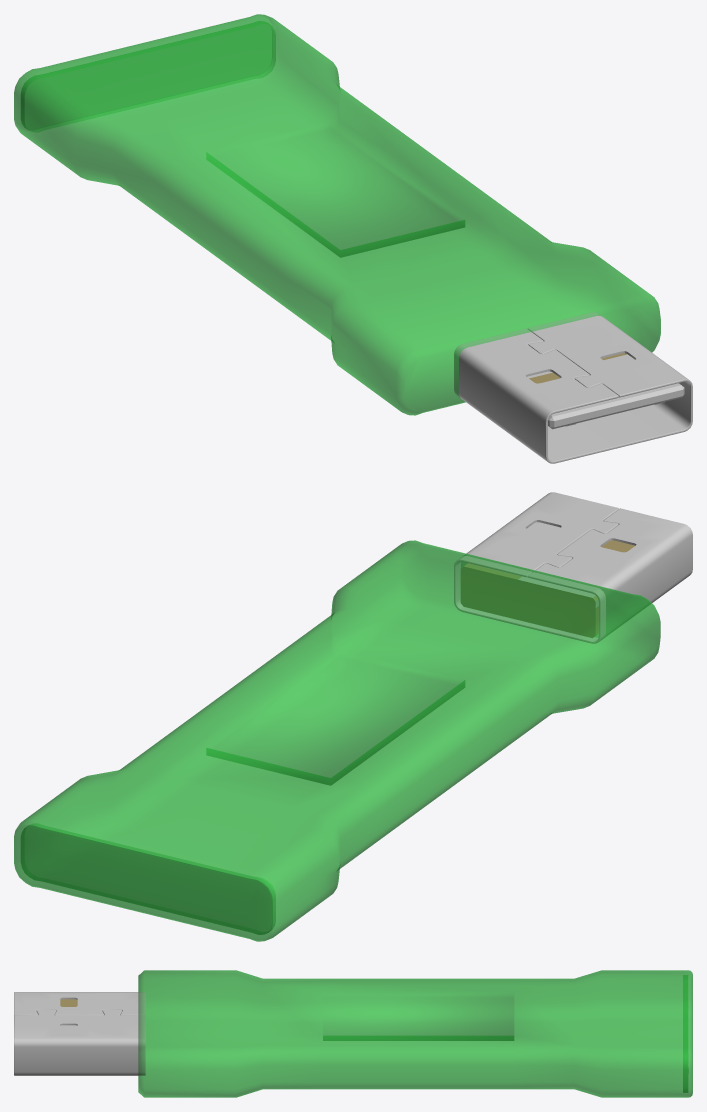
Rendered from usbdrive.obj.
The picture shows the model from 3 angles, top to bottom: view 1: azimuth 30°, elevation 25°; view 2: azimuth 150°, elevation 25°; view 3: azimuth 270°, elevation 25°; orthographic projection. The views are drawn at different scales.
Visible parts, largest first — view 1: 02_flash_body_004_Mesh.006, 02_USB_out_004_Mesh.007; view 2: 02_flash_body_004_Mesh.006, 02_USB_out_004_Mesh.007; view 3: 02_flash_body_004_Mesh.006, 02_USB_out_004_Mesh.007.
Boxes of the visible parts, box(x1,y1,x2,y2) form: 02_flash_body_004_Mesh.006: box(14, 14, 660, 415); 02_USB_out_004_Mesh.007: box(454, 312, 692, 463); 02_flash_body_004_Mesh.006: box(14, 540, 660, 941); 02_USB_out_004_Mesh.007: box(454, 492, 692, 643); 02_flash_body_004_Mesh.006: box(138, 970, 692, 1097); 02_USB_out_004_Mesh.007: box(14, 992, 145, 1075).
Size of the model in its own units: 1.61 by 0.3899 by 5.05.
